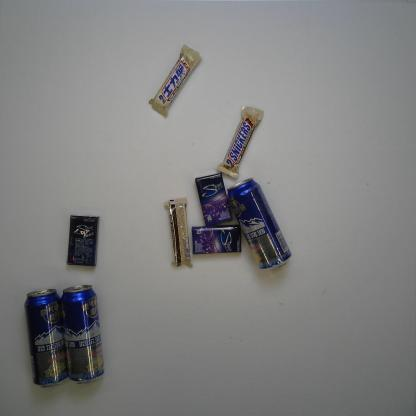Alcohol: (226, 177, 292, 271), (24, 288, 70, 388), (61, 284, 105, 385)
Chocolate: (148, 44, 204, 118), (216, 105, 264, 178), (164, 197, 193, 268)
Gum: (195, 172, 232, 227), (66, 214, 100, 267), (191, 224, 242, 254)
